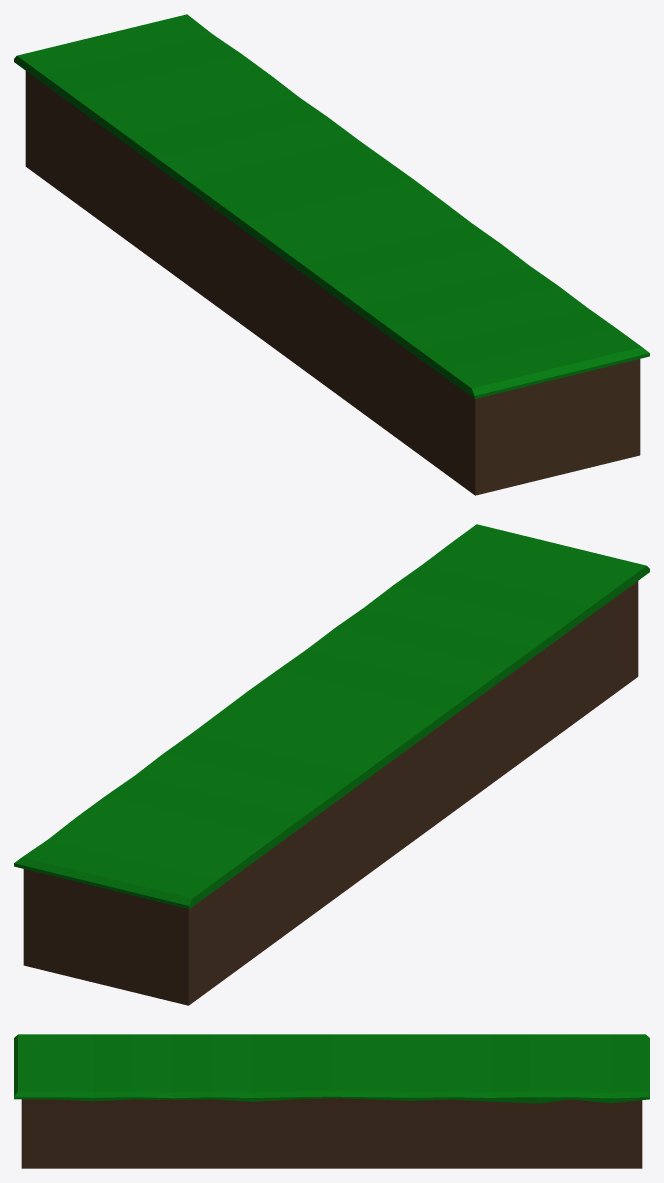
Rendered from ground.fbx.
The picture shows the model from 3 angles, top to bottom: view 1: azimuth 30°, elevation 25°; view 2: azimuth 150°, elevation 25°; view 3: azimuth 270°, elevation 25°; orthographic projection. The views are drawn at different scales.
Parts seen in each view (by area): view 1: Cube.001, Cube; view 2: Cube.001, Cube; view 3: Cube, Cube.001.
Boxes of the visible parts, x1,y1,x2,y2 form: Cube.001: (14, 14, 649, 398); Cube: (25, 71, 640, 495); Cube.001: (14, 524, 649, 909); Cube: (23, 581, 638, 1005); Cube: (21, 1098, 642, 1168); Cube.001: (14, 1034, 649, 1103).
Size of the model in its own units: 1309 by 790 by 5935.
